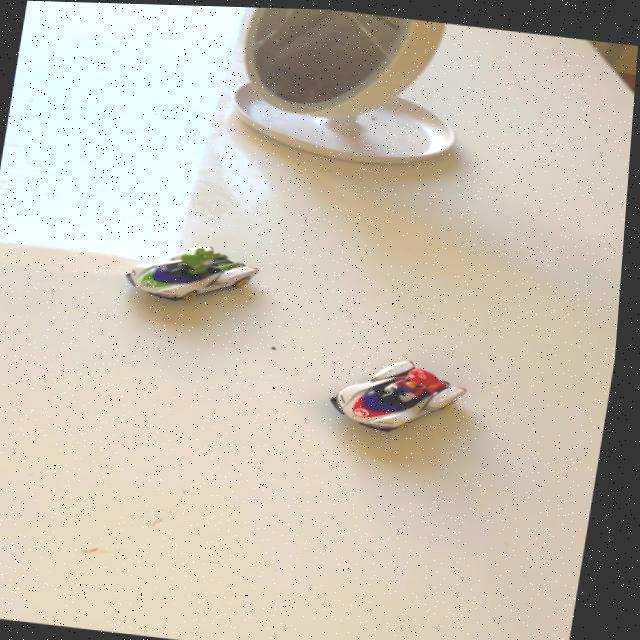mario: (315, 342, 496, 449)
yoshi: (117, 230, 279, 316)
